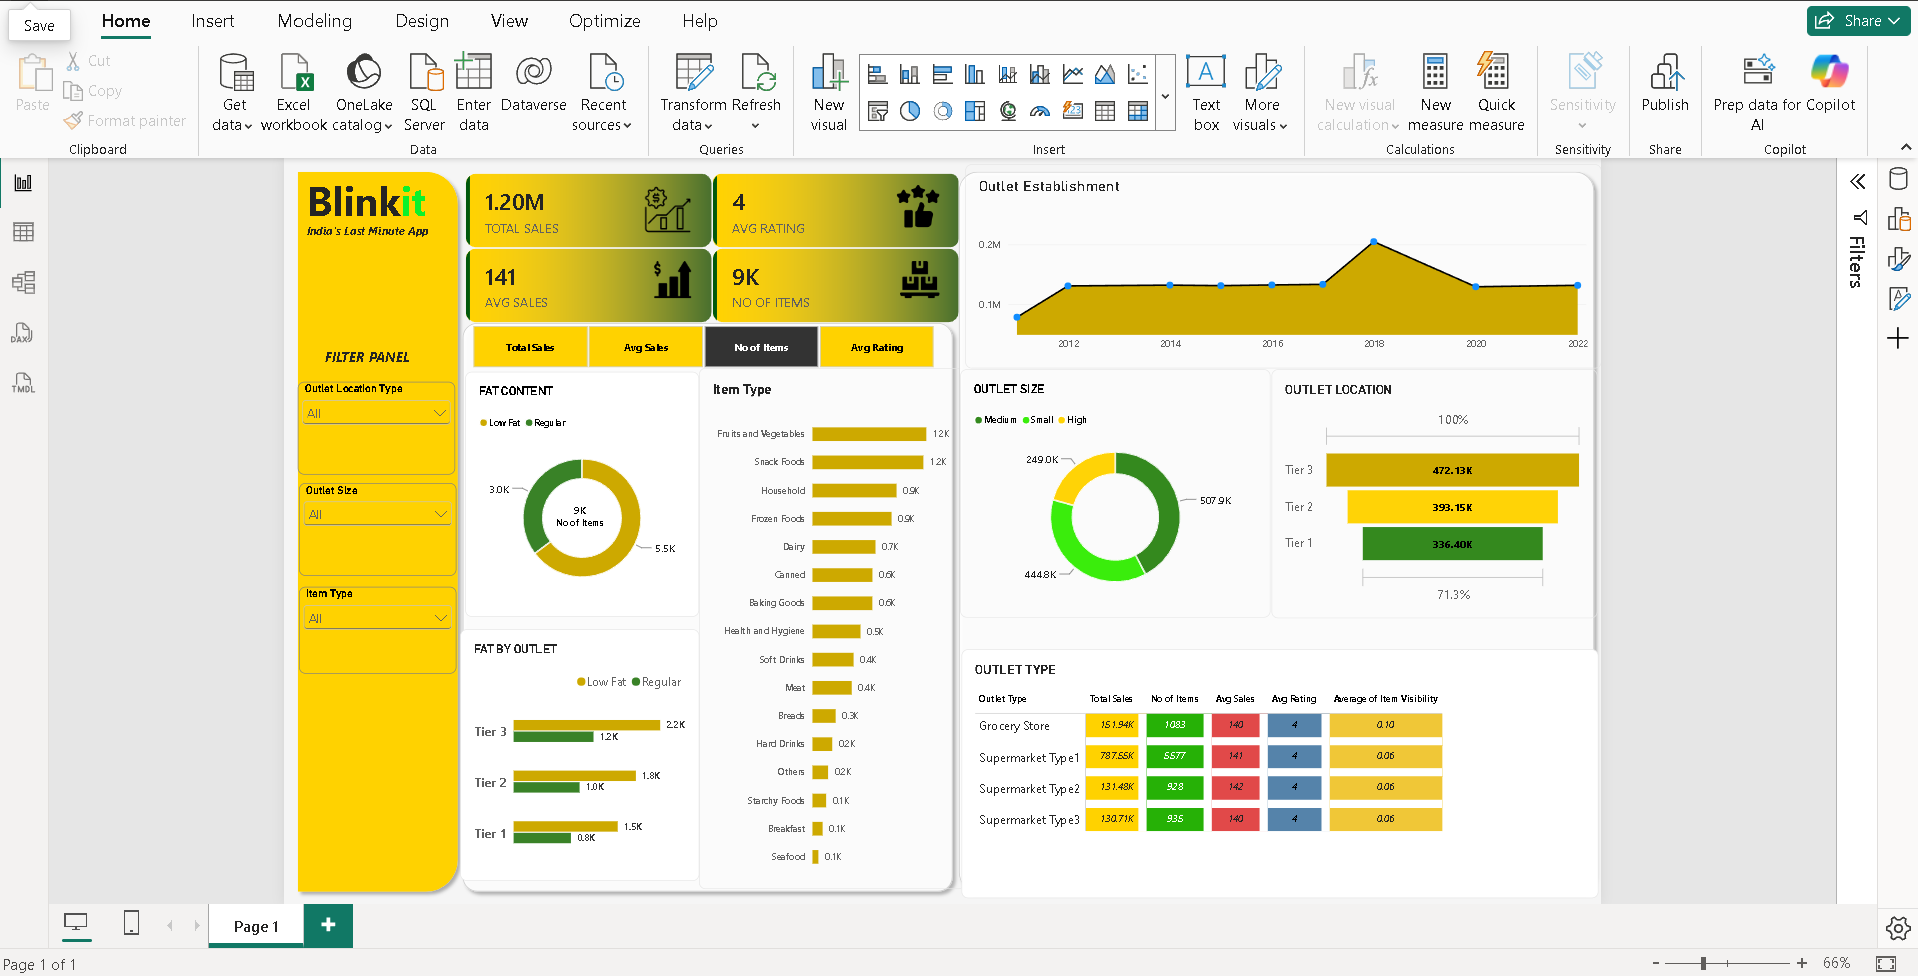

The page's visual inventory and layout, read from the dashboard file:
{"tool":"powerbi","page":{"name":"Page 1","canvas":[1600,906],"ordinal":0},"visuals":[{"type":"shape","box":[7.6,7.6,212.5,892.6],"z":0},{"type":"textbox","box":[27.1,18.6,181.4,70],"z":2000},{"type":"cardVisual","fields":{"Data":["BlinkIT Grocery Data.Total Sales","BlinkIT Grocery Data.Avg Rating","BlinkIT Grocery Data.Avg Sales","BlinkIT Grocery Data.No of Items"]},"box":[220.1,18.2,601.2,183.7],"z":3000},{"type":"shape","box":[208.7,191.3,613,708.7],"z":4000},{"type":"donutChart","title":"FAT CONTENT","fields":{"Category":["BlinkIT Grocery Data.Item Fat Content"],"Y":["BlinkIT Grocery Data.No of Items"]},"box":[220.4,260.2,283.9,297.8],"z":5000},{"type":"slicer","fields":{"Values":["metrices.metrices"]},"box":[210,201.4,598.6,54.3],"z":6000},{"type":"cardVisual","fields":{"Data":["BlinkIT Grocery Data.No of Items"]},"box":[291.4,396,136,78],"z":6001},{"type":"clusteredBarChart","title":"FAT BY OUTLET","fields":{"Category":["BlinkIT Grocery Data.Outlet Location Type"],"Series":["BlinkIT Grocery Data.Item Fat Content"],"Y":["BlinkIT Grocery Data.No of Items"]},"box":[214.1,572.3,290,305.7],"z":6002},{"type":"barChart","title":"Item Type","fields":{"Category":["BlinkIT Grocery Data.Item Type"],"Y":["BlinkIT Grocery Data.No of Items"]},"box":[504,255,323.4,633],"z":6004},{"type":"shape","box":[810.7,7.6,789.4,892.6],"z":6007},{"type":"donutChart","title":"OUTLET SIZE","fields":{"Category":["BlinkIT Grocery Data.Outlet Size"],"Y":["BlinkIT Grocery Data.Total Sales"]},"box":[821.4,257.1,377.1,301.4],"z":6008},{"type":"lineChart","title":" Outlet Establishment ","fields":{"Category":["BlinkIT Grocery Data.Outlet Establishment Year"],"Y":["BlinkIT Grocery Data.Total Sales"]},"box":[827,7,773,248],"z":6009},{"type":"funnel","title":"OUTLET LOCATION","fields":{"Category":["BlinkIT Grocery Data.Outlet Location Type"],"Y":["Sum(BlinkIT Grocery Data.Sales)"]},"box":[1198.9,255.9,395.7,302.2],"z":6010},{"type":"pivotTable","title":"OUTLET TYPE","fields":{"Rows":["BlinkIT Grocery Data.Outlet Type"],"Values":["BlinkIT Grocery Data.Total Sales","BlinkIT Grocery Data.No of Items","BlinkIT Grocery Data.Avg Sales","BlinkIT Grocery Data.Avg Rating","Avg(BlinkIT Grocery Data.Item Visibility)"]},"box":[822.4,596.9,773.9,302.2],"z":6011},{"type":"slicer","fields":{"Values":["BlinkIT Grocery Data.Outlet Location Type"]},"box":[17.1,271.4,191.4,112.9],"z":6012},{"type":"slicer","fields":{"Values":["BlinkIT Grocery Data.Outlet Size"]},"box":[18.6,394.3,191.4,112.9],"z":6013},{"type":"slicer","fields":{"Values":["BlinkIT Grocery Data.Item Type"]},"box":[18.6,520,191.4,105.7],"z":6014},{"type":"textbox","box":[50,228.6,158.6,27.1],"z":6015},{"type":"textbox","box":[27.1,77.1,168.6,24.3],"z":6016}]}

Visuals, with their boxes on the page's 1600x906 design canvas (x1, y1, x2, y2). These are canvas units, not pixel positions in the 1918x976 screenshot, which may show the page scaled, cropped or inside an application window:
shape: [left=8, top=8, right=220, bottom=900]
textbox: [left=27, top=19, right=208, bottom=89]
cardVisual - BlinkIT Grocery Data.Total Sales x BlinkIT Grocery Data.Avg Rating: [left=220, top=18, right=821, bottom=202]
shape: [left=209, top=191, right=822, bottom=900]
"FAT CONTENT" donutChart: [left=220, top=260, right=504, bottom=558]
slicer - metrices.metrices: [left=210, top=201, right=809, bottom=256]
cardVisual - BlinkIT Grocery Data.No of Items: [left=291, top=396, right=427, bottom=474]
"FAT BY OUTLET" clusteredBarChart: [left=214, top=572, right=504, bottom=878]
"Item Type" barChart: [left=504, top=255, right=827, bottom=888]
shape: [left=811, top=8, right=1600, bottom=900]
"OUTLET SIZE" donutChart: [left=821, top=257, right=1198, bottom=558]
" Outlet Establishment " lineChart: [left=827, top=7, right=1600, bottom=255]
"OUTLET LOCATION" funnel: [left=1199, top=256, right=1595, bottom=558]
"OUTLET TYPE" pivotTable: [left=822, top=597, right=1596, bottom=899]
slicer - BlinkIT Grocery Data.Outlet Location Type: [left=17, top=271, right=208, bottom=384]
slicer - BlinkIT Grocery Data.Outlet Size: [left=19, top=394, right=210, bottom=507]
slicer - BlinkIT Grocery Data.Item Type: [left=19, top=520, right=210, bottom=626]
textbox: [left=50, top=229, right=209, bottom=256]
textbox: [left=27, top=77, right=196, bottom=101]
